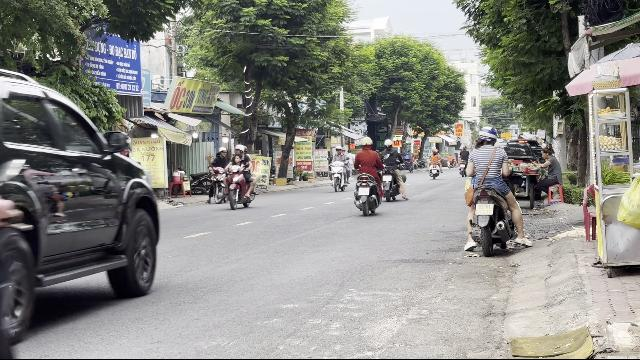helmet: (476, 126, 496, 146)
licenseplate: (476, 204, 492, 214)
motorcyclist: (460, 124, 526, 256)
